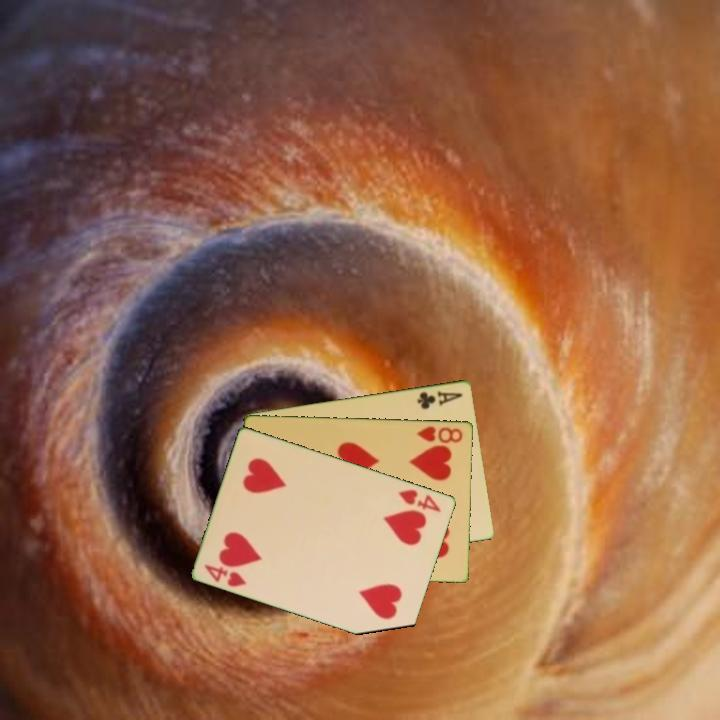4h: (395, 485, 444, 515), (201, 561, 249, 589)
8h: (414, 422, 466, 446)
Ac: (414, 387, 466, 412)
